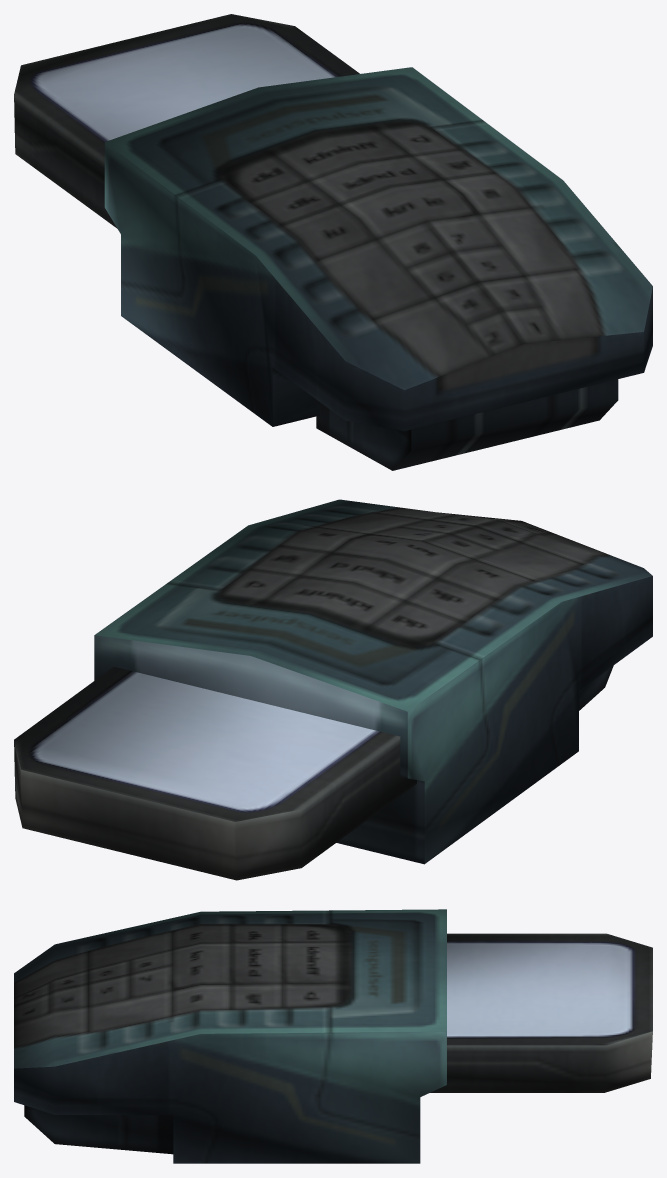
Rendered from hackingdevice.glb.
3 views of the same model, one above another, from view 1: azimuth 30°, elevation 25°; view 2: azimuth 150°, elevation 25°; view 3: azimuth 270°, elevation 25° (orthographic). The views are drawn at different scales.
Parts seen in each view (by area): view 1: Box01; view 2: Box01; view 3: Box01.
Part boxes in pixels (x1,y1,x2,y2): Box01: (14,14,652,470); Box01: (14,499,652,880); Box01: (14,909,652,1163).
Bounding box in the file's own units: 7.39 × 4.46 × 16.32.
1 material, 1 textured.
